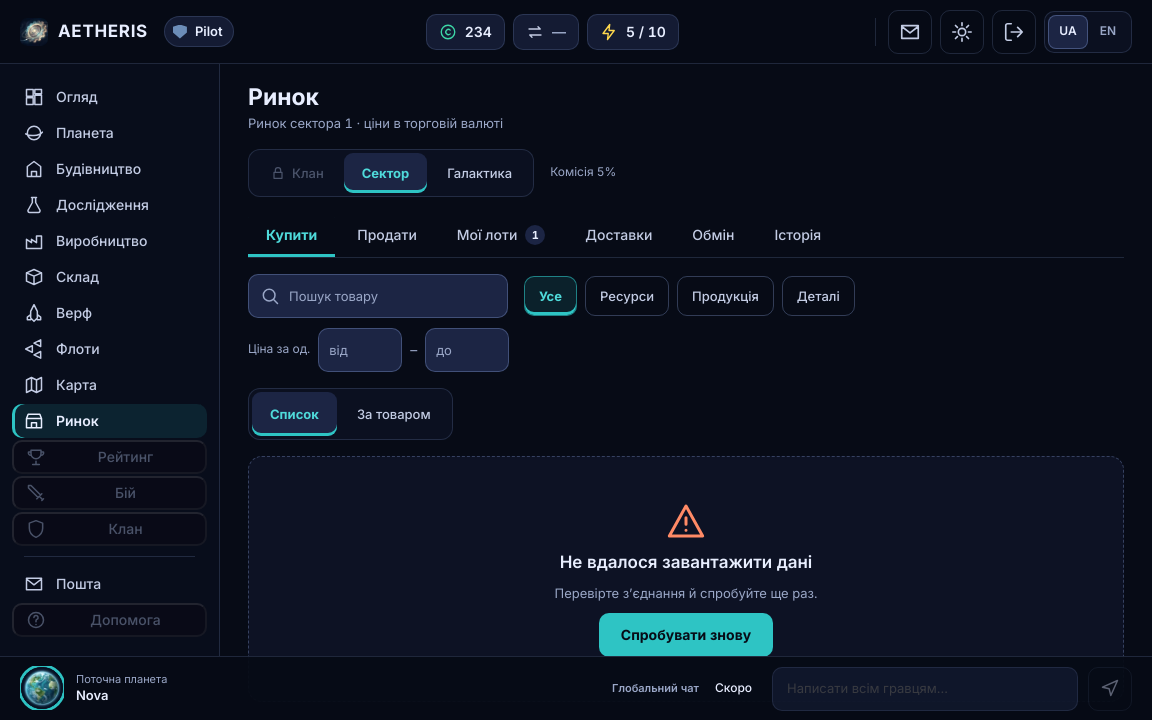
Test case: the tab Buy › shows the error with the button that reads again, and the skeleton while it loads
The width and height of the screenshot is (1152, 720).
Check: the heading "Не вдалося завантажити дані" is shown, box [560,551,812,574]
Step 1. Click the button "Спробувати знову" → [686, 635], box [599,613,773,657]
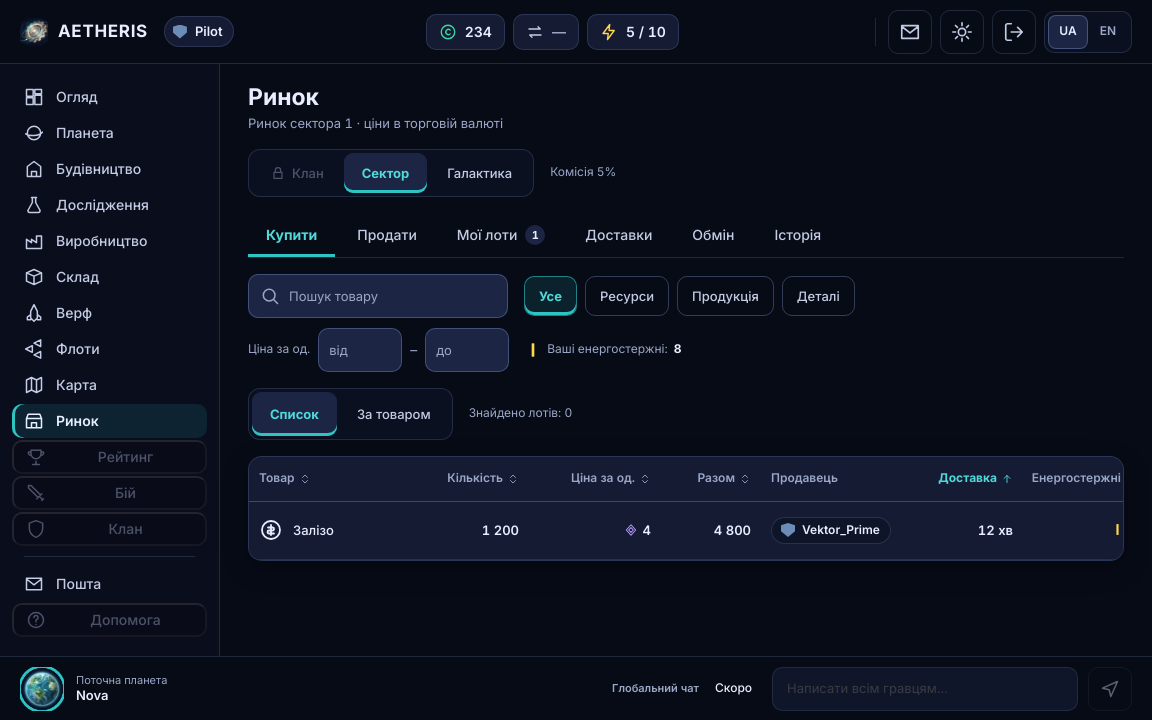
Check: the table named "Лоти для купівлі" is shown, box [249,457,1124,560]
